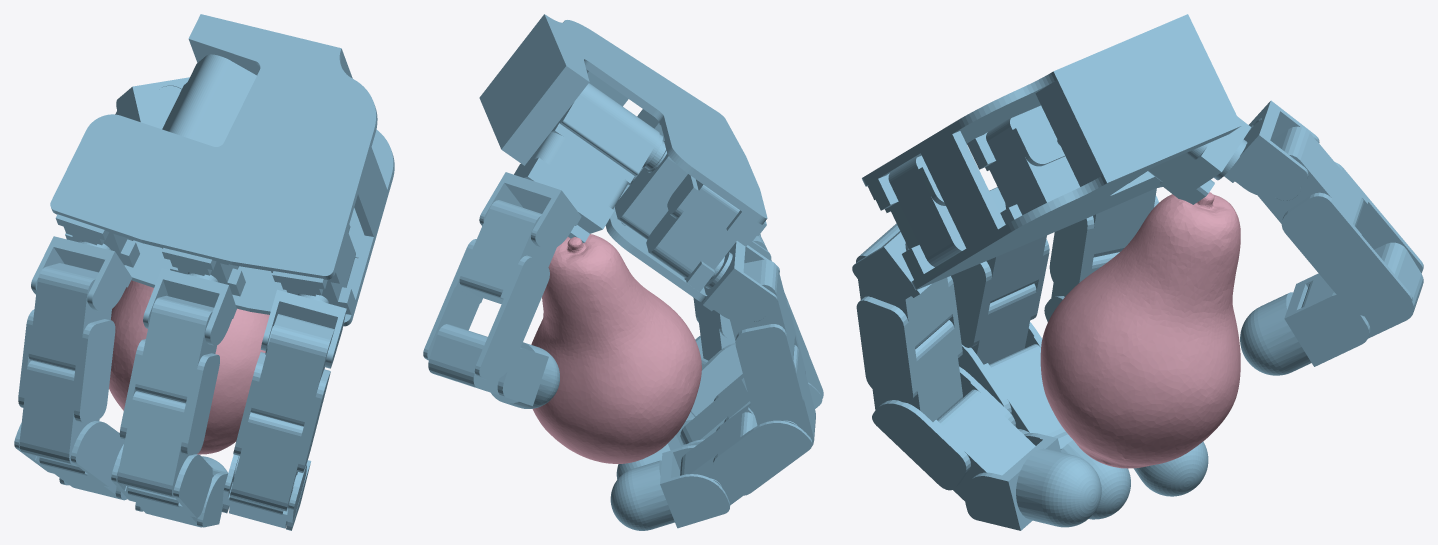
3 views of the same model, side by side, from view 1: azimuth 30°, elevation 25°; view 2: azimuth 150°, elevation 25°; view 3: azimuth 270°, elevation 25° (orthographic). The views are drawn at different scales.
Visible parts, largest first — view 1: world; view 2: world; view 3: world.
Boxes of the visible parts, x1=… form: world: x1=14, y1=14, x2=394, y2=530; world: x1=423, y1=14, x2=823, y2=530; world: x1=852, y1=14, x2=1423, y2=530.
Size of the model in its own units: 0.1473 by 0.1902 by 0.1875.
